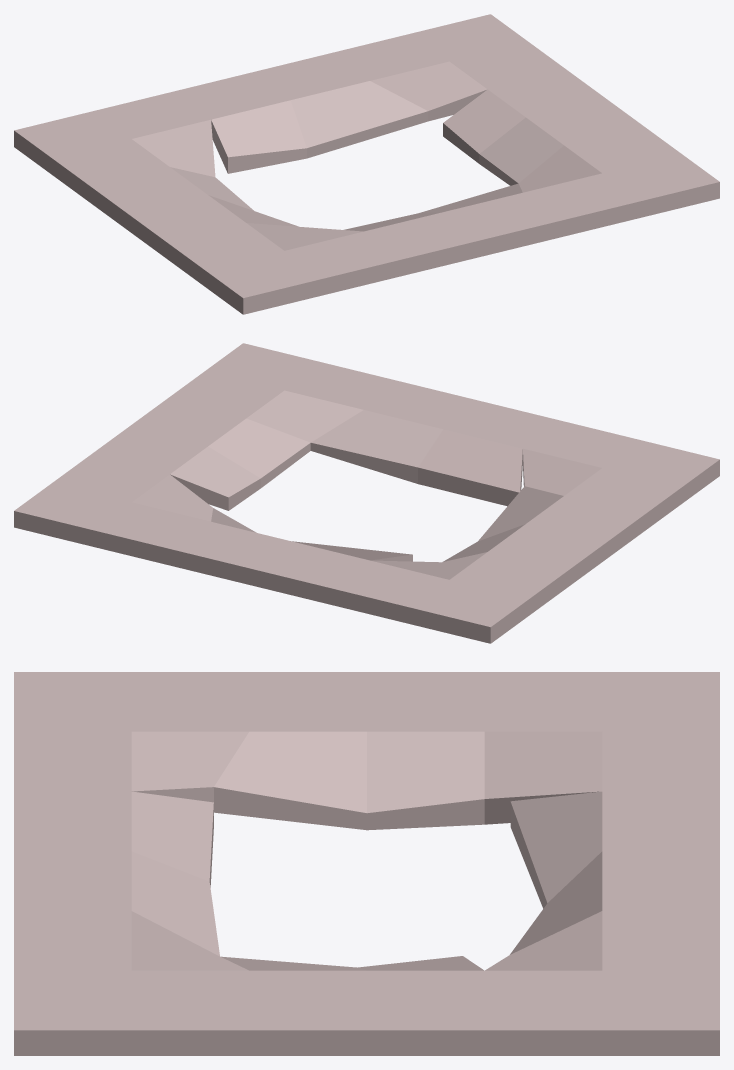
File: FloorBrokenPrison.obj
3 views of the same model, one above another, from view 1: azimuth 30°, elevation 25°; view 2: azimuth 150°, elevation 25°; view 3: azimuth 270°, elevation 25° (orthographic). The views are drawn at different scales.
Parts seen in each view (by area): view 1: FloorBrokenPrison; view 2: FloorBrokenPrison; view 3: FloorBrokenPrison.
Part boxes in pixels (left/top/right/bottom): FloorBrokenPrison: left=14, top=14, right=719, bottom=314; FloorBrokenPrison: left=14, top=343, right=719, bottom=643; FloorBrokenPrison: left=14, top=672, right=719, bottom=1055.
Bounding box in the file's own units: 6 × 0.5409 × 5.
